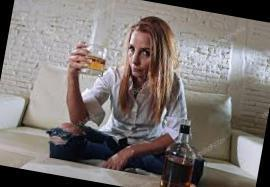Drunk: (128, 34, 150, 77)
